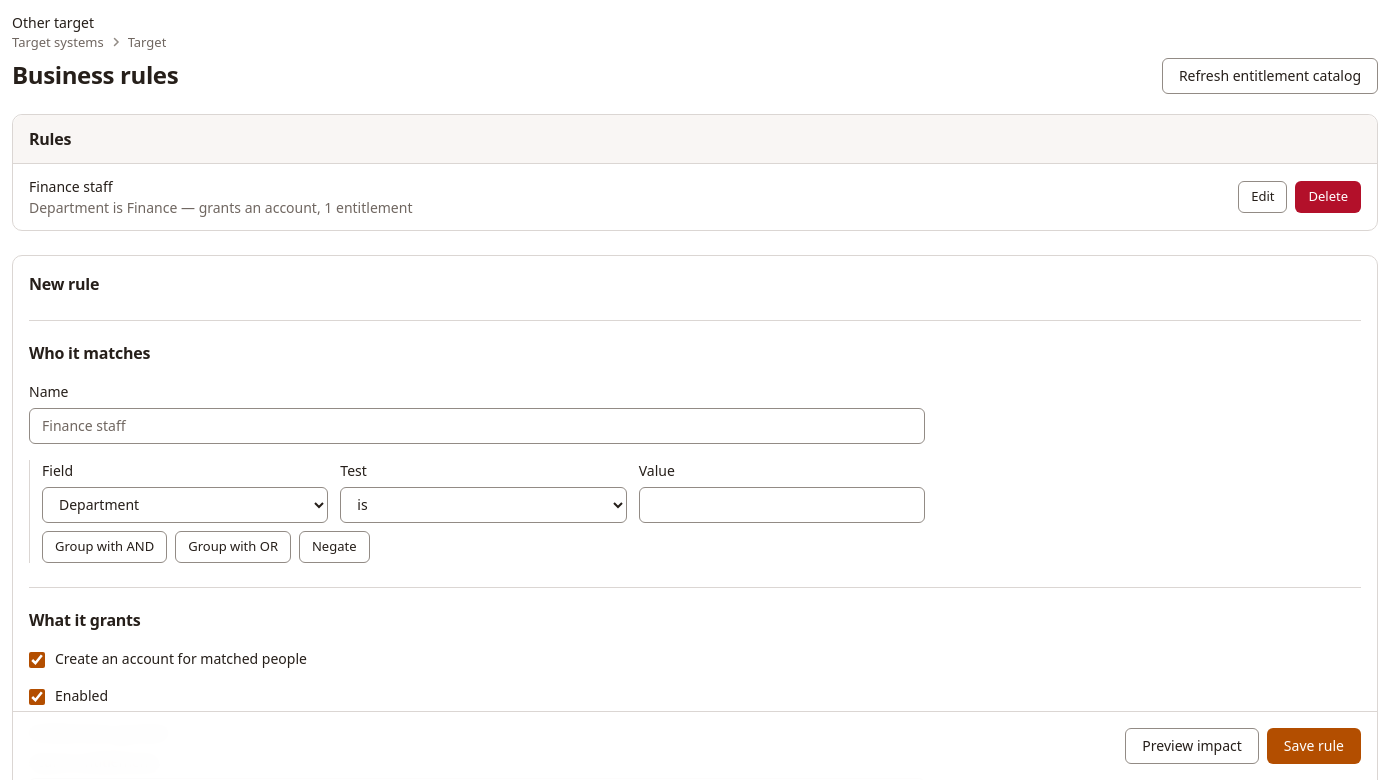
Scenario: BusinessRulesPage › cannot restore a deletion confirmation after the operator starts editing
Step 1. Click the button "Delete" → (1328, 197), box 1296,181 -> 1361,213
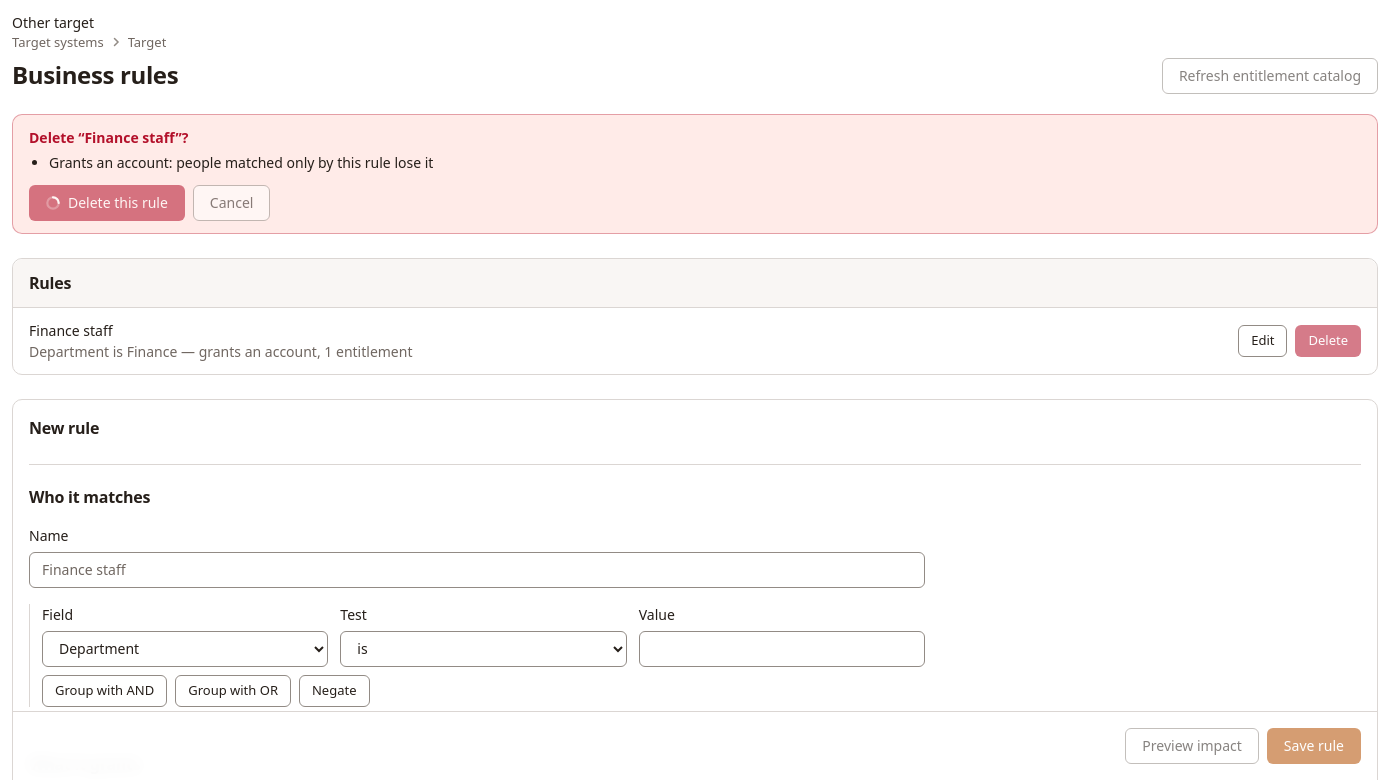
Step 2. Click the button "Edit" → (1263, 341), box 1238,325 -> 1288,357
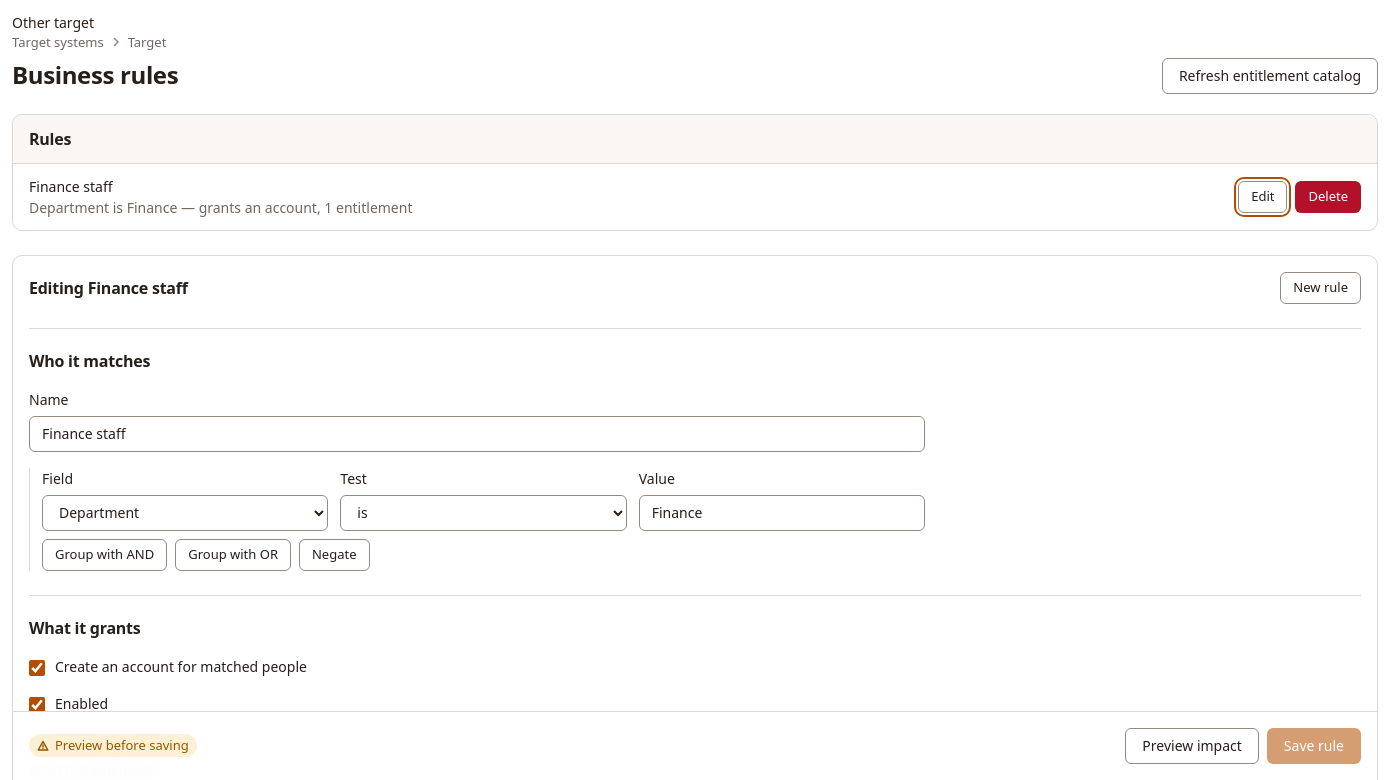
Expected: the button "Delete this rule" is gone
Expected: the button "Preview impact" is enabled, 1125,728 -> 1259,764
